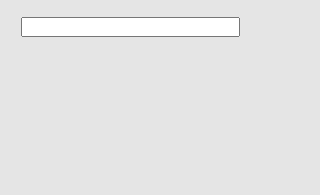
LocationInput › shows an error when location permission is denied
Click the dropdown named "Boarding stop" at (130, 27), box [20,17,240,37]
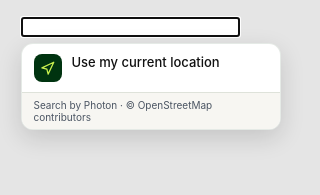
Click the option "Use my current location" at (127, 68), box [34,54,220,82]
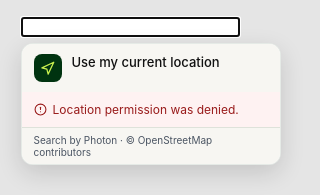
Result: the text "Location permission was denied." is shown at [22,92,280,127]
